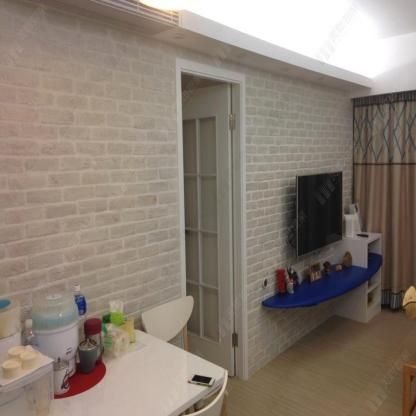TV: (295, 170, 343, 259)
